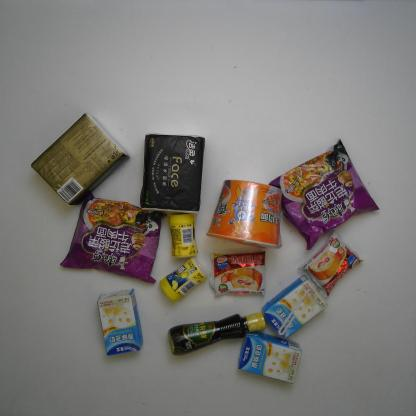Dessert: (298, 230, 366, 297), (209, 250, 271, 300)
Gum: (157, 258, 215, 306), (164, 211, 204, 261)
Instant Noodles: (270, 139, 382, 248), (56, 194, 167, 284), (210, 173, 286, 250)
Milk: (91, 290, 150, 364), (262, 276, 326, 341), (237, 328, 303, 387)
Seasoner: (165, 303, 268, 358)
Tissue: (29, 112, 123, 205), (132, 130, 205, 220)
